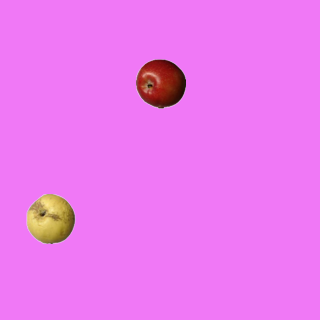Apple Braeburn: (135, 58, 185, 108)
Apple Golden 1: (25, 193, 75, 243)
